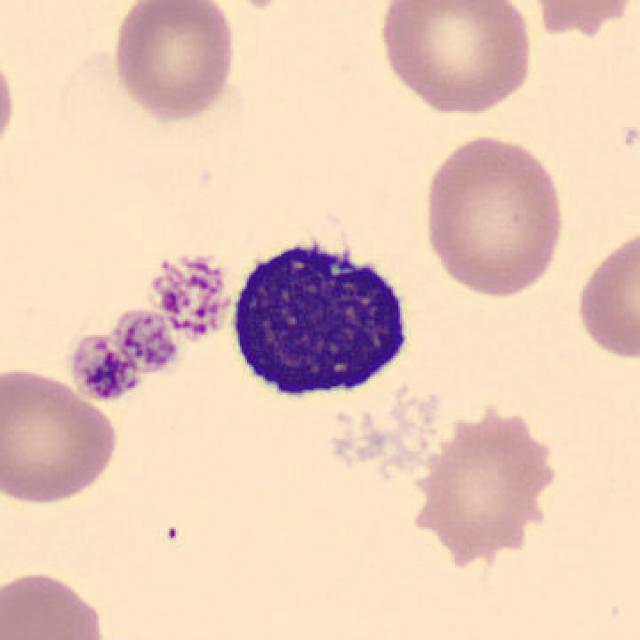Basophil: (213, 215, 425, 413)
Platelets: (68, 307, 174, 407), (152, 258, 233, 343), (70, 335, 140, 402)
RBC: (402, 397, 567, 557), (418, 130, 569, 302), (373, 0, 537, 118), (0, 363, 123, 510), (108, 0, 239, 123), (571, 222, 638, 365), (0, 566, 112, 640), (508, 0, 640, 39), (0, 44, 20, 164)
